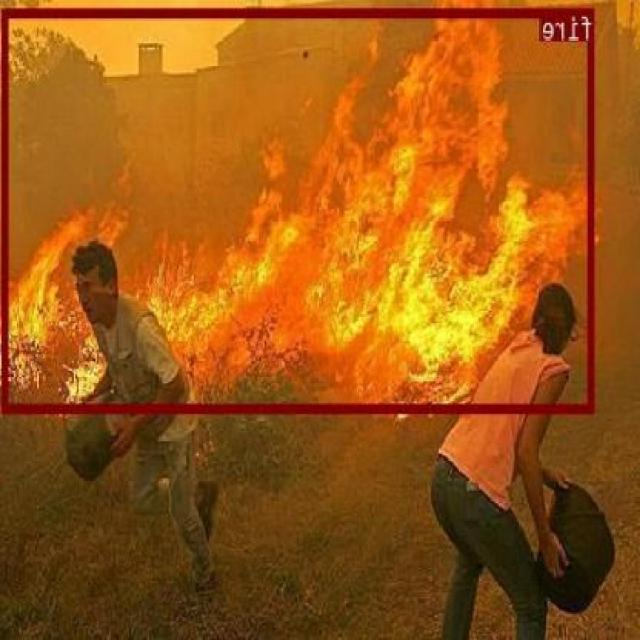Fire: (3, 9, 594, 412)
